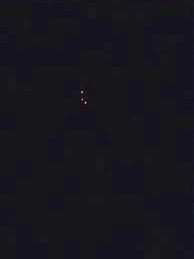Plane: (71, 81, 92, 114)
